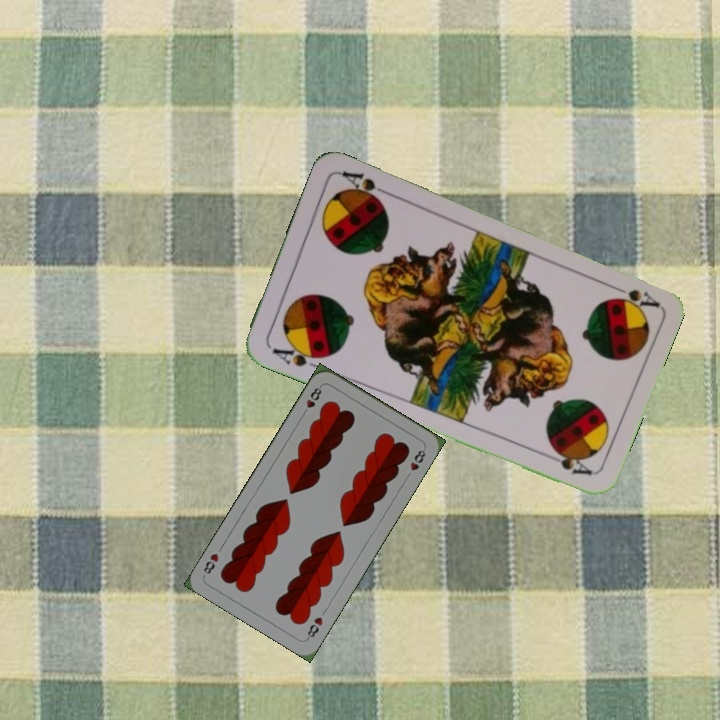H8: (298, 382, 325, 418), (302, 613, 326, 642)
SA: (268, 339, 326, 372), (604, 279, 661, 310)
